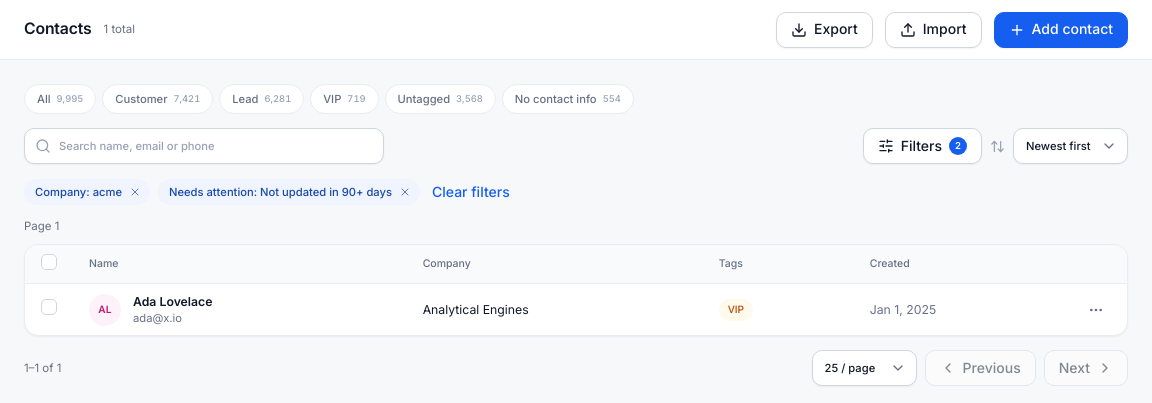
filters popover and active filter chips › shows filters that no view represents as removable chips, and removing one refetches
Expected: the elements with class "filter-chip" read "Company: acme", "Needs attention: Not updated in 90+ days", in this order, x1=24 y1=179 x2=150 y2=205; x1=158 y1=179 x2=420 y2=205
Click the button named "Remove filter Company: acme".
click(135, 192)  # box x1=126 y1=183 x2=144 y2=201
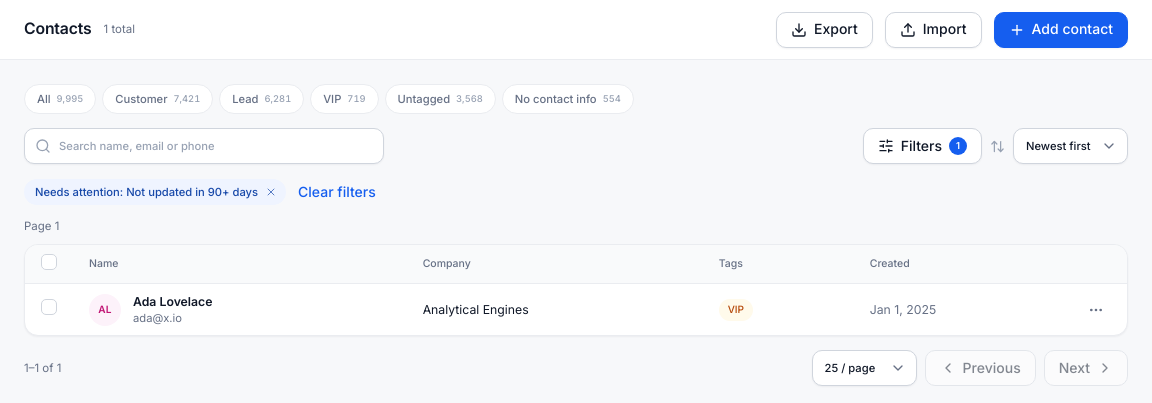
Now the number of elements with class "filter-chip" is 1, box x1=24 y1=179 x2=286 y2=205
